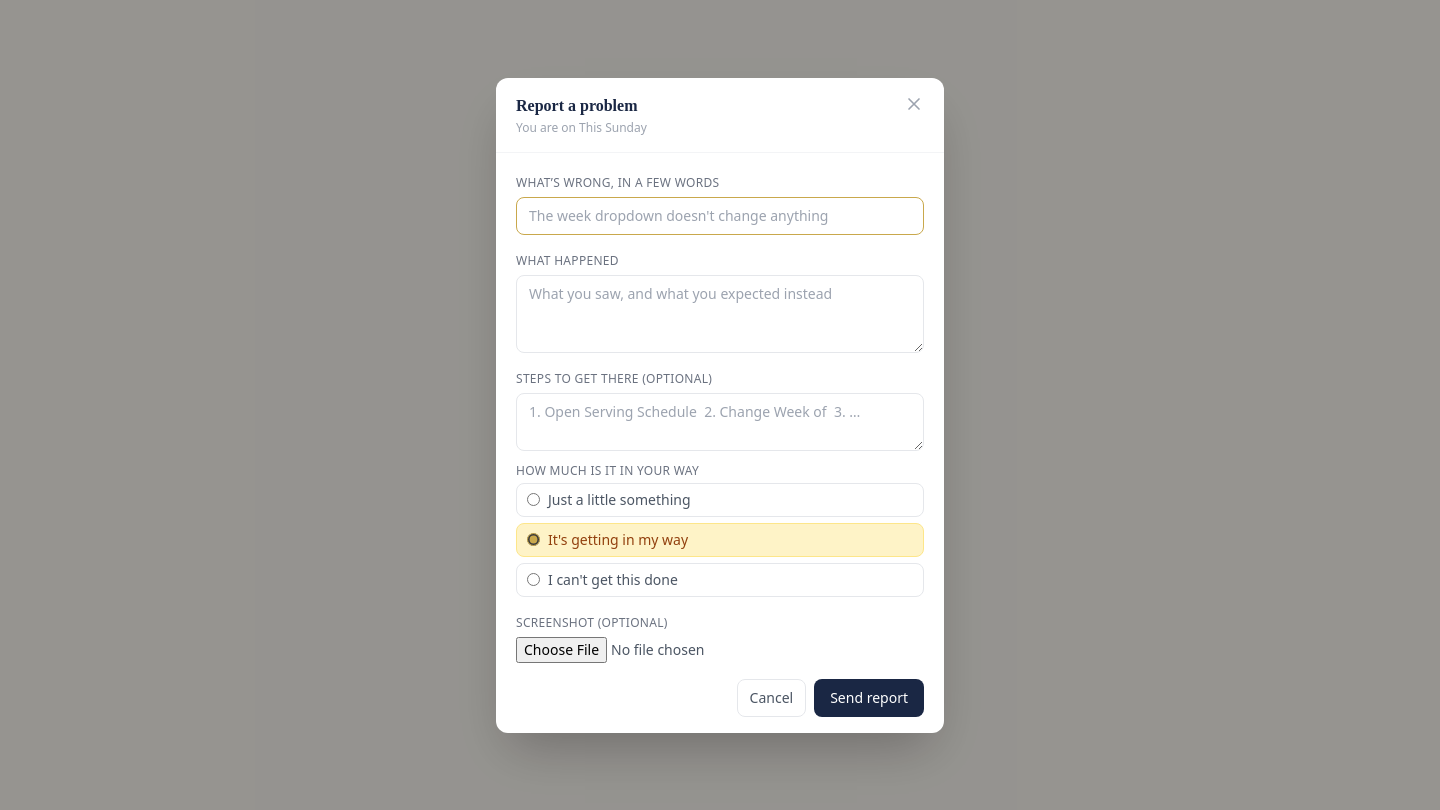
BugReportDialog › a failed submission is shown, not swallowed
This screenshot has width=1440, height=810.
Type "x" into the field with placeholder "The week dropdown doesn't change anything" at (720, 216), box top-left (516, 196), bottom-right (924, 234)
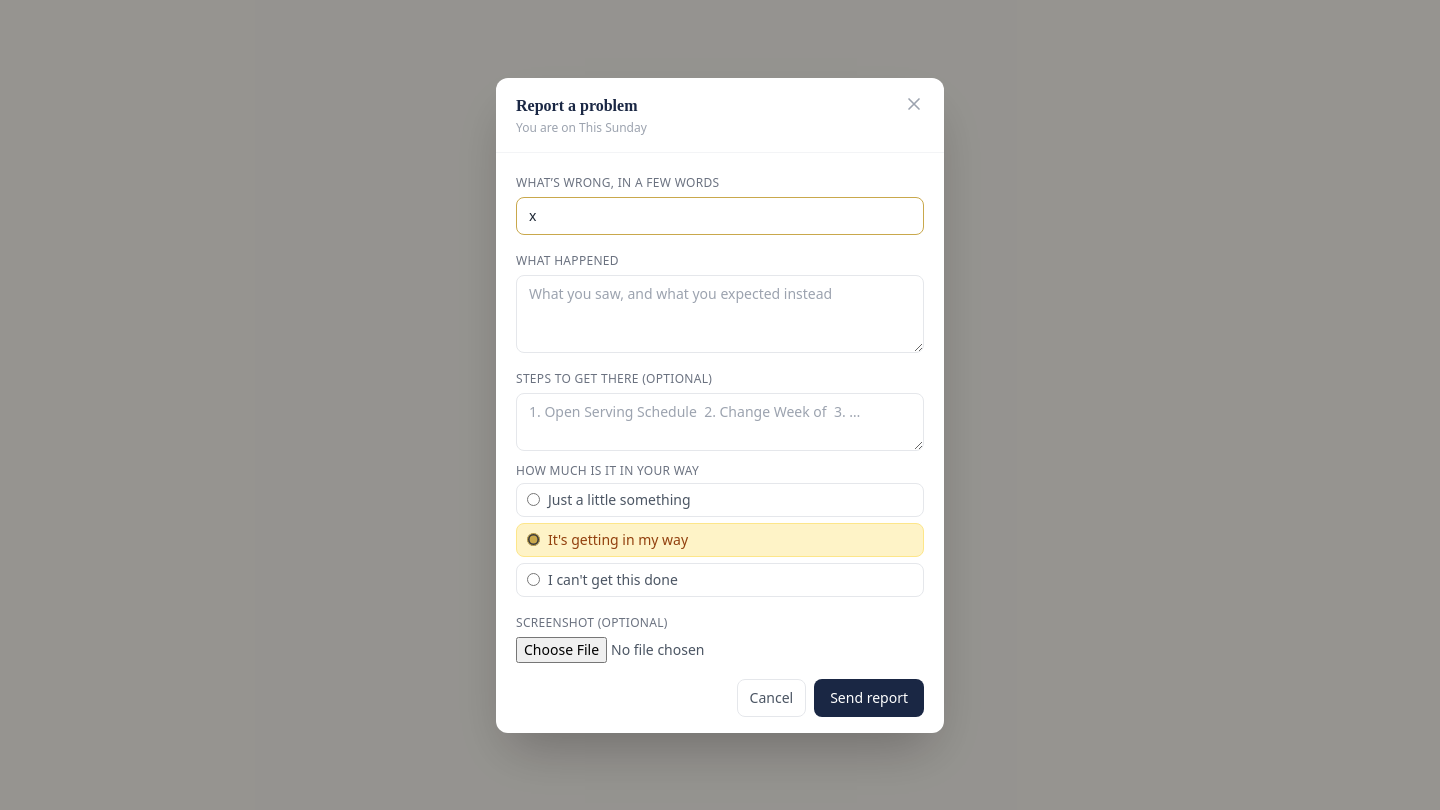
Type "y" into the text box with placeholder "What you saw, and what you expected instead" at (720, 314), box top-left (516, 274), bottom-right (924, 352)
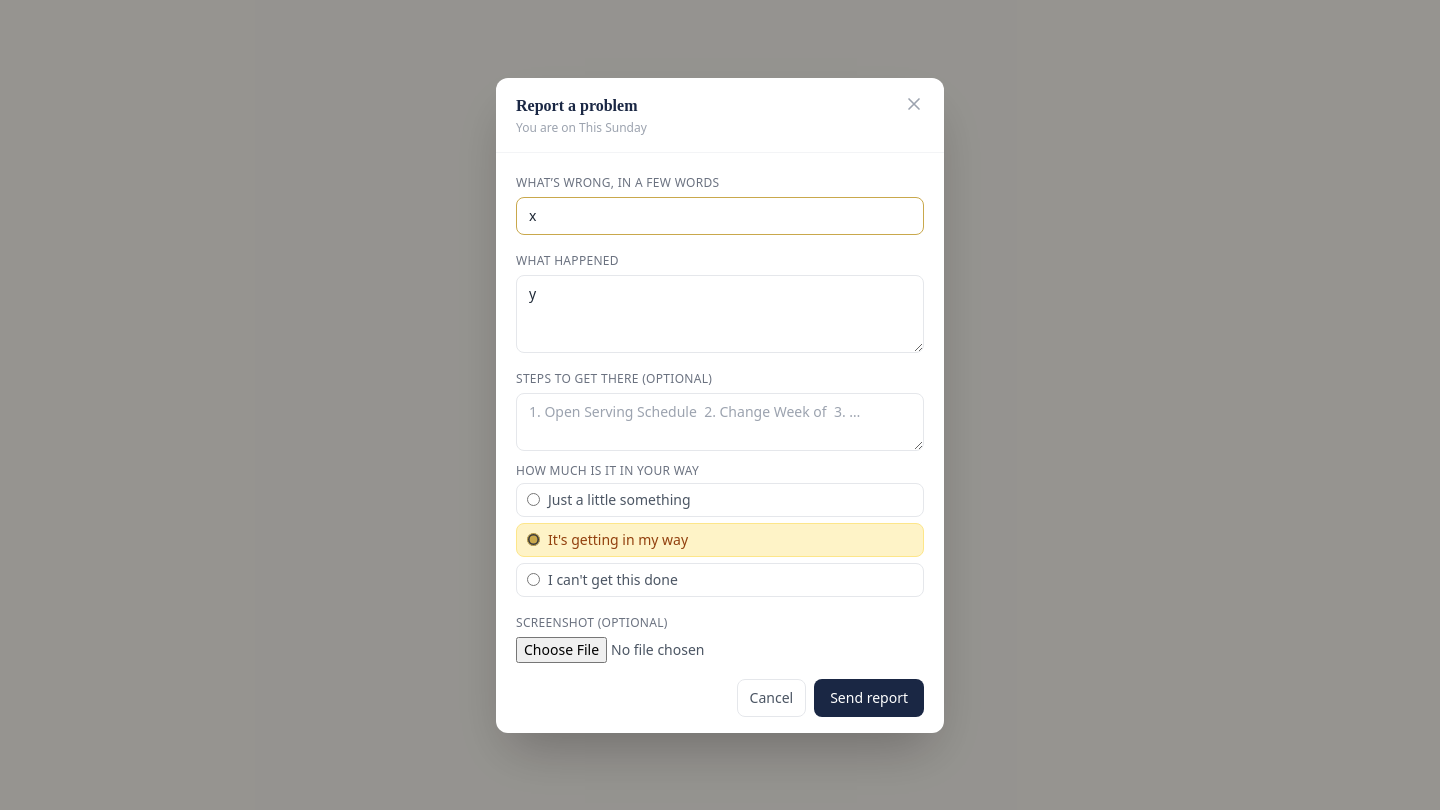
Click the button "Send report" at (869, 698), box top-left (814, 678), bottom-right (924, 716)
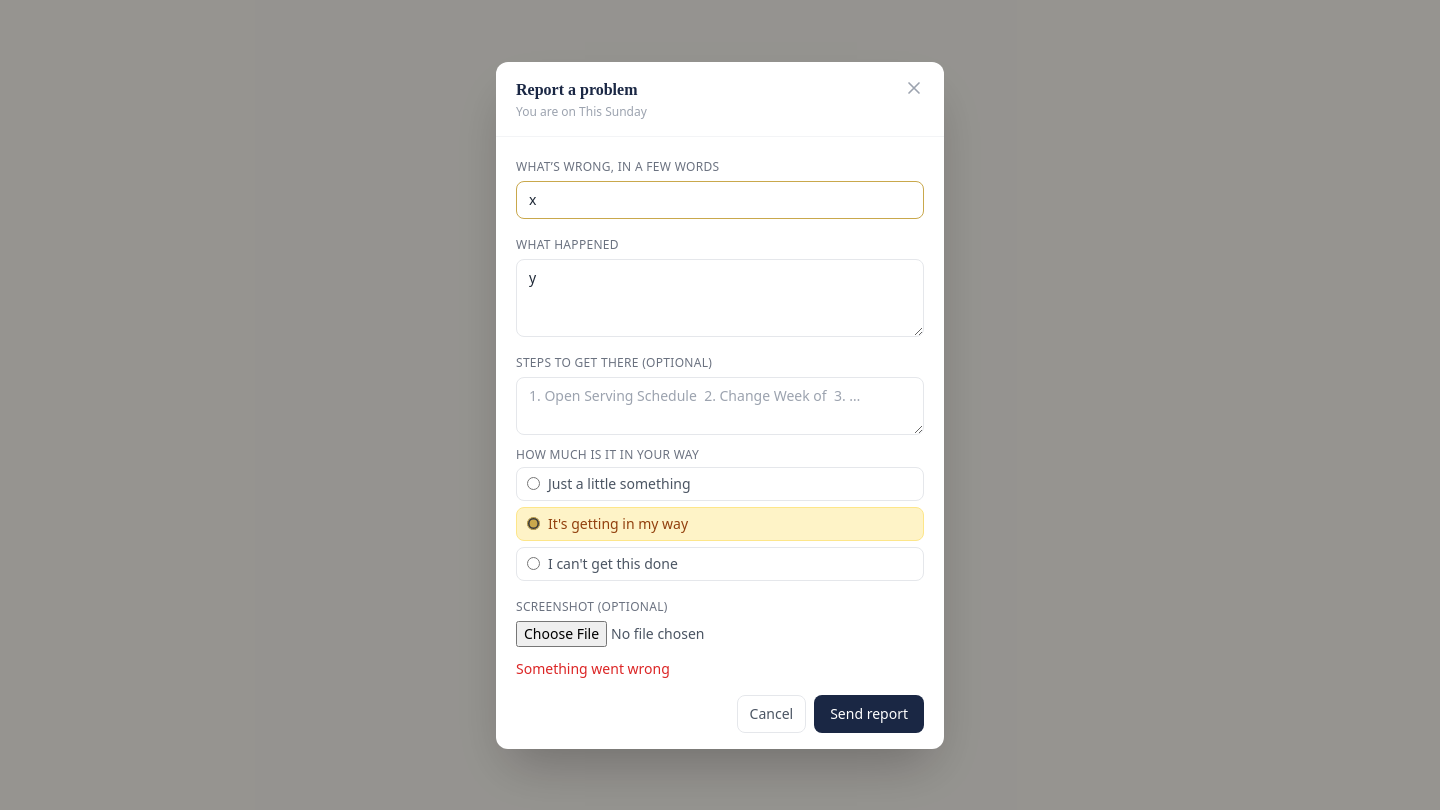
Expected: the text "Something went wrong" is shown, top-left (516, 658), bottom-right (670, 678)
